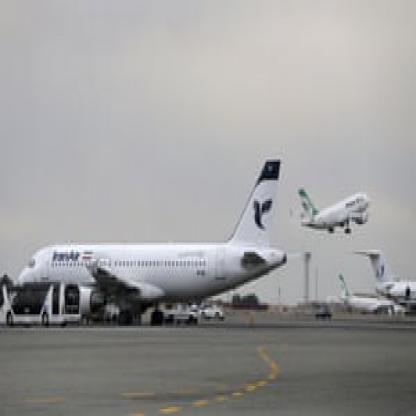CIV_Plane: (9, 155, 288, 324), (332, 268, 400, 336), (295, 180, 367, 235), (351, 240, 415, 300)
